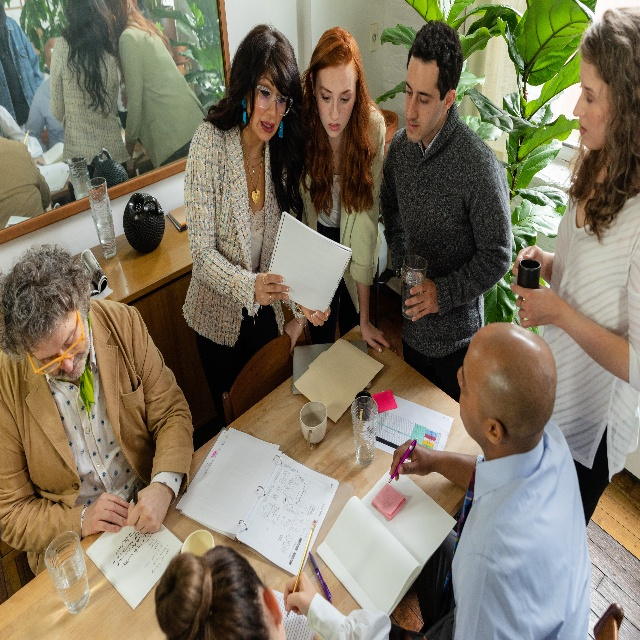Gafas: (23, 308, 85, 376), (256, 84, 293, 116)
Sin_guantes: (510, 277, 555, 330), (127, 479, 171, 532), (81, 492, 132, 532), (389, 436, 431, 484), (403, 269, 441, 321), (283, 570, 317, 619), (510, 245, 544, 285), (253, 271, 291, 306), (282, 311, 305, 357), (362, 322, 391, 355), (299, 302, 330, 327)
